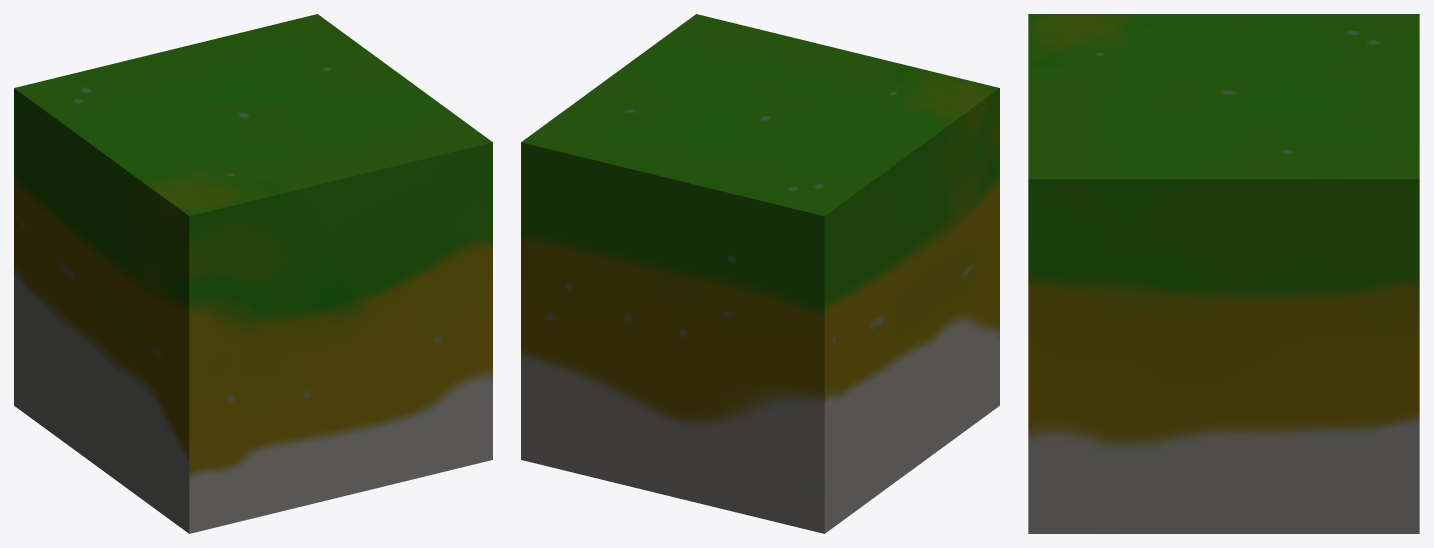
File: hill.glb
3 views of the same model, side by side, from view 1: azimuth 30°, elevation 25°; view 2: azimuth 150°, elevation 25°; view 3: azimuth 270°, elevation 25° (orthographic). The views are drawn at different scales.
Visible parts, largest first — view 1: Block_Grass; view 2: Block_Grass; view 3: Block_Grass.
Boxes of the visible parts, box(x1,y1,x2,y2) form: Block_Grass: box(14, 14, 492, 533); Block_Grass: box(521, 14, 999, 533); Block_Grass: box(1028, 14, 1419, 533).
Bounding box in the file's own units: 2 × 2 × 2.
1 material, 1 textured.
